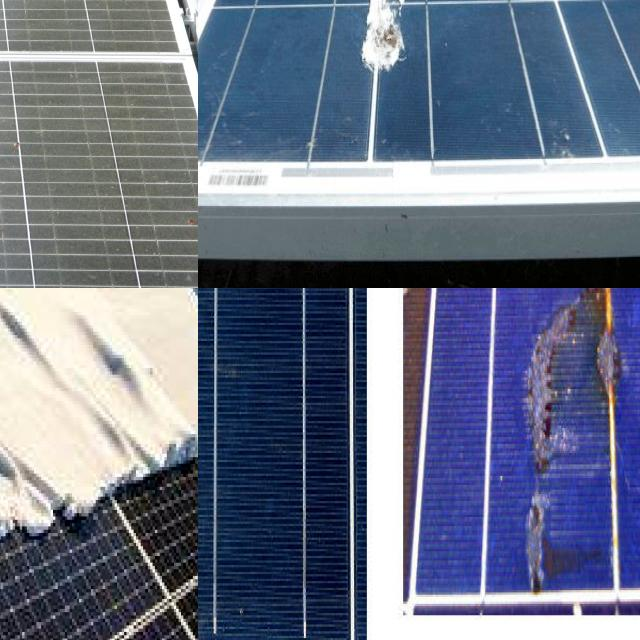bird: (360, 0, 421, 130)
crack: (0, 0, 198, 288)
panel: (18, 464, 180, 541), (0, 412, 83, 548), (75, 387, 198, 467), (0, 288, 68, 408), (0, 288, 51, 347)
shadow: (518, 288, 621, 479), (400, 288, 441, 600), (513, 494, 610, 598), (198, 520, 228, 640), (448, 288, 597, 311), (534, 288, 570, 313), (619, 288, 640, 325)
